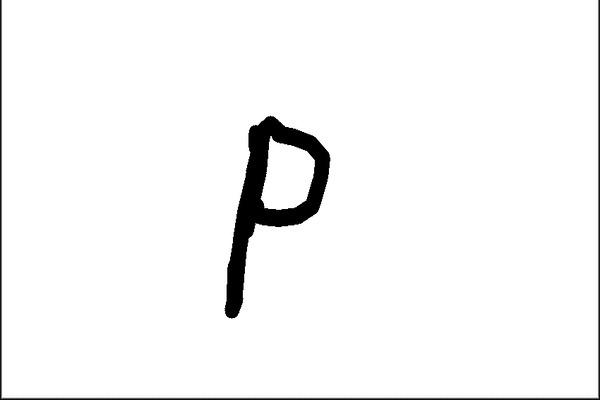P: (209, 102, 341, 331)
